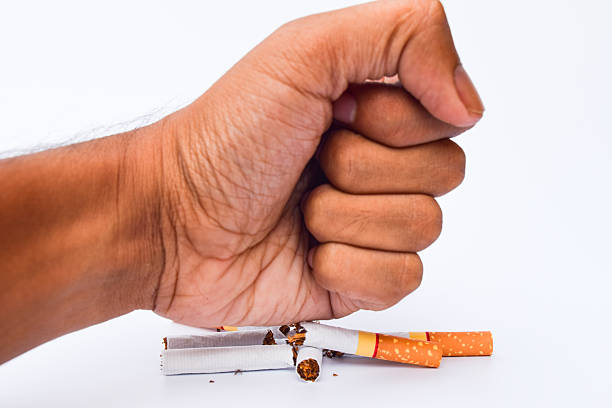cigarette: (293, 320, 444, 369), (159, 344, 297, 376), (384, 329, 495, 358), (159, 328, 275, 352), (296, 346, 323, 384), (274, 324, 291, 339)
